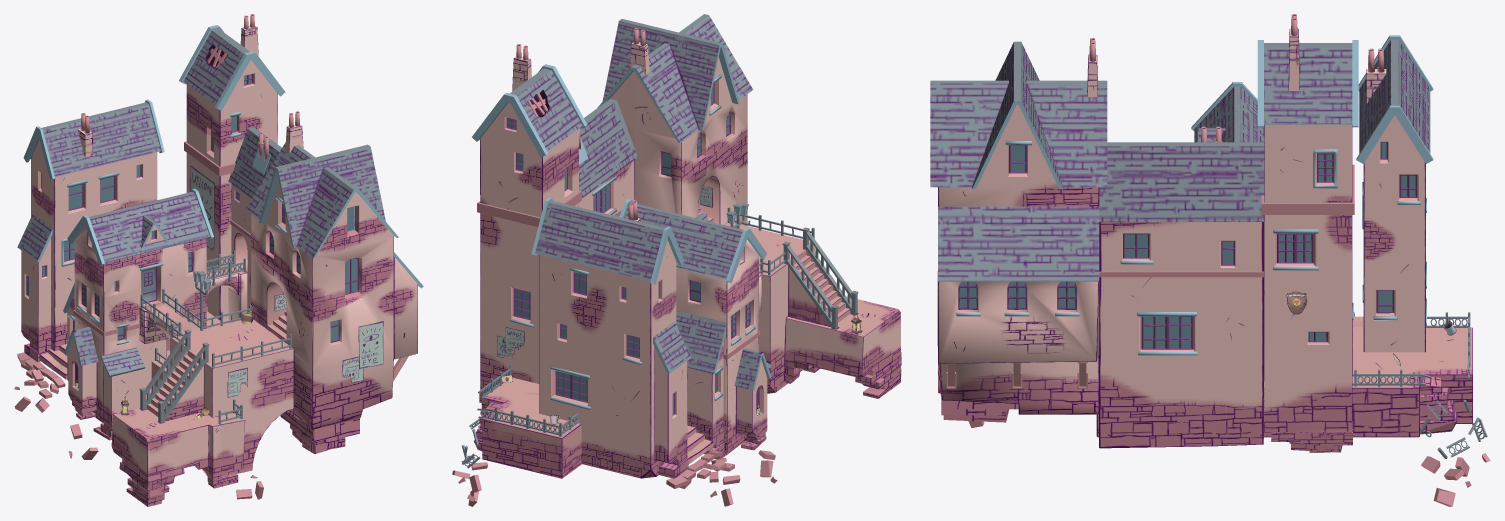
The model's file is town-transformed.glb.
3 views of the same model, side by side, from view 1: azimuth 30°, elevation 25°; view 2: azimuth 150°, elevation 25°; view 3: azimuth 270°, elevation 25° (orthographic). The views are drawn at different scales.
Visible parts, largest first — view 1: Roof.001, Base.003, Stones, Base.007, Base.006, Base.001, Base.002, Base.005, Deco.001, Bridge.001, Stones.001, stairs_2 (+5 smaller); view 2: Roof.001, Base.006, Stones, Base.005, Base.003, Base.007, Base.001, Platform, Base.002, Deco.001, stairs_2, Base.004 (+3 smaller); view 3: Roof.001, Base.004, Base.003, Base.005, Stones, Base.006, Platform, Stones.001, ground.001, Pipes.001.
Boxes of the visible parts, left/top/right/bottom form: Roof.001: left=17, top=29, right=385, bottom=375; Base.003: left=251, top=180, right=417, bottom=429; Stones: left=14, top=14, right=423, bottom=499; Base.007: left=67, top=226, right=206, bottom=430; Base.006: left=21, top=139, right=157, bottom=361; Base.001: left=111, top=408, right=245, bottom=506; Base.002: left=170, top=319, right=293, bottom=476; Base.005: left=186, top=60, right=277, bottom=320; Deco.001: left=139, top=329, right=209, bottom=423; Bridge.001: left=139, top=264, right=247, bottom=343; Stones.001: left=72, top=401, right=359, bottom=488; stairs_2: left=40, top=311, right=286, bottom=416; Roof.001: left=510, top=14, right=762, bottom=390; Base.006: left=539, top=240, right=688, bottom=478; Stones: left=452, top=28, right=814, bottom=506; Base.005: left=480, top=102, right=578, bottom=393; Base.003: left=609, top=57, right=747, bottom=225; Base.007: left=676, top=239, right=767, bottom=452; Base.001: left=784, top=296, right=901, bottom=398; Platform: left=481, top=377, right=581, bottom=478; Base.002: left=724, top=222, right=815, bottom=393; Deco.001: left=782, top=227, right=858, bottom=329; stairs_2: left=687, top=208, right=850, bottom=464; Base.004: left=579, top=160, right=634, bottom=216; Roof.001: left=930, top=39, right=1430, bottom=280; Base.004: left=1099, top=222, right=1263, bottom=448; Base.003: left=938, top=105, right=1099, bottom=414; Base.005: left=1264, top=124, right=1352, bottom=432; Stones: left=938, top=14, right=1490, bottom=506; Base.006: left=1363, top=115, right=1425, bottom=352; Platform: left=1096, top=321, right=1472, bottom=437; Stones.001: left=941, top=398, right=1352, bottom=452; ground.001: left=1420, top=377, right=1457, bottom=434; Pipes.001: left=1087, top=28, right=1386, bottom=104.
Bounding box in the file's own units: 21.92 × 29.9 × 30.46.
30 materials, 30 textured.
